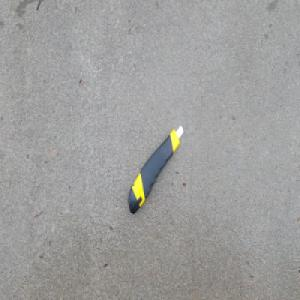Cutter: (127, 122, 184, 216)
